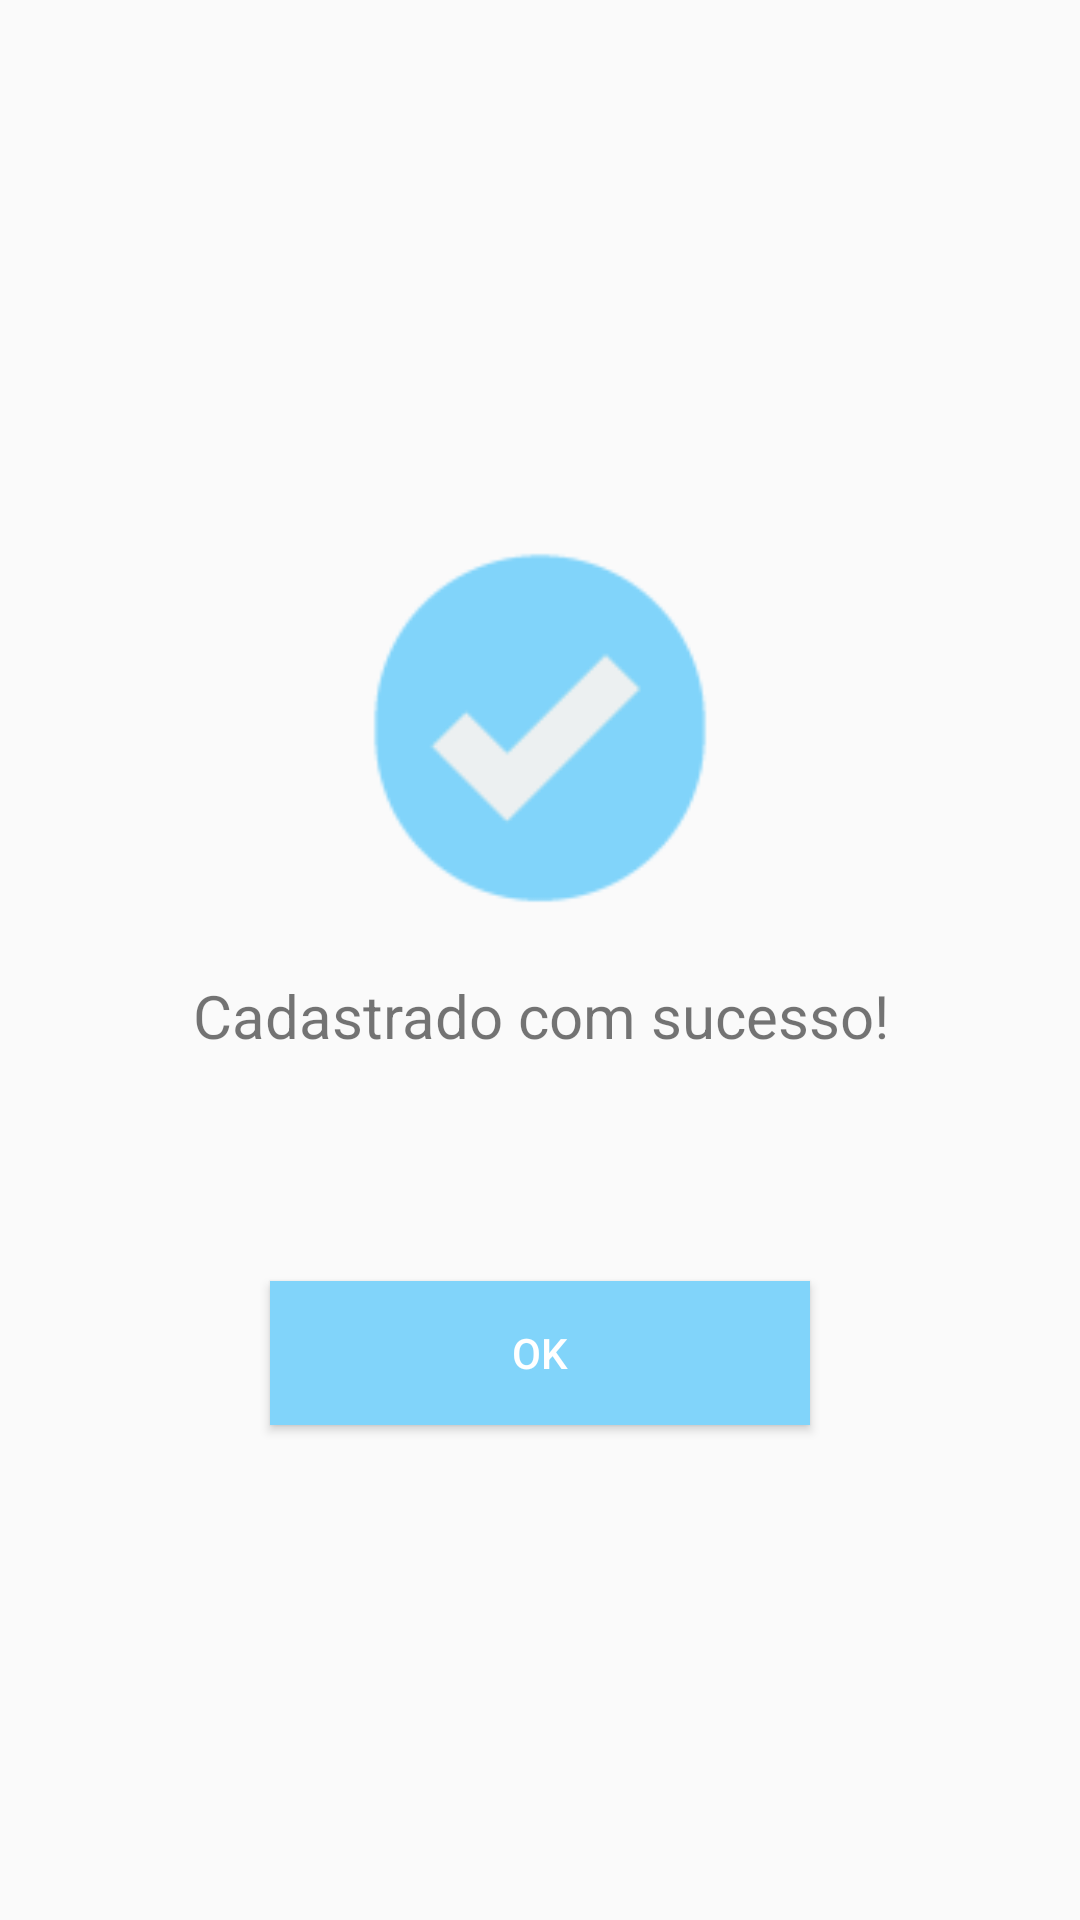

Icon click points for this 1080 × 1920 phone screenshot, format [x,y]:
check: [540,728]
